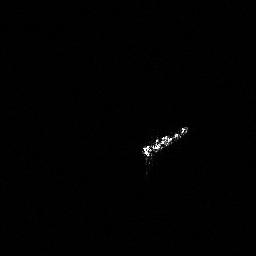ship: (141, 124, 190, 178)
